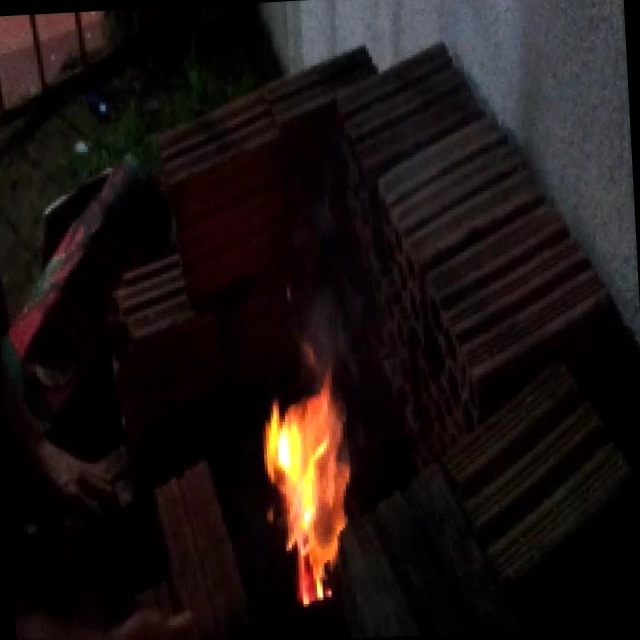fire: (226, 337, 379, 603)
